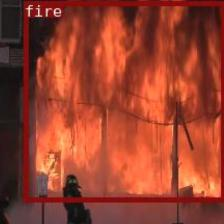fire: (23, 0, 224, 201)
